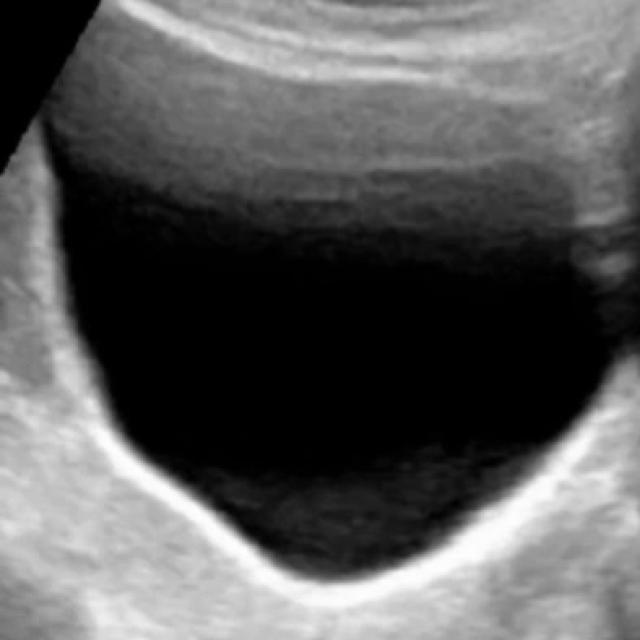bladder: (24, 0, 610, 609)
